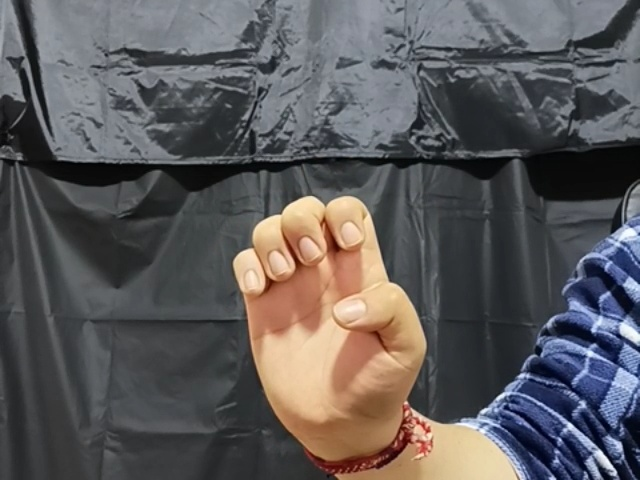E: (231, 190, 429, 443)
